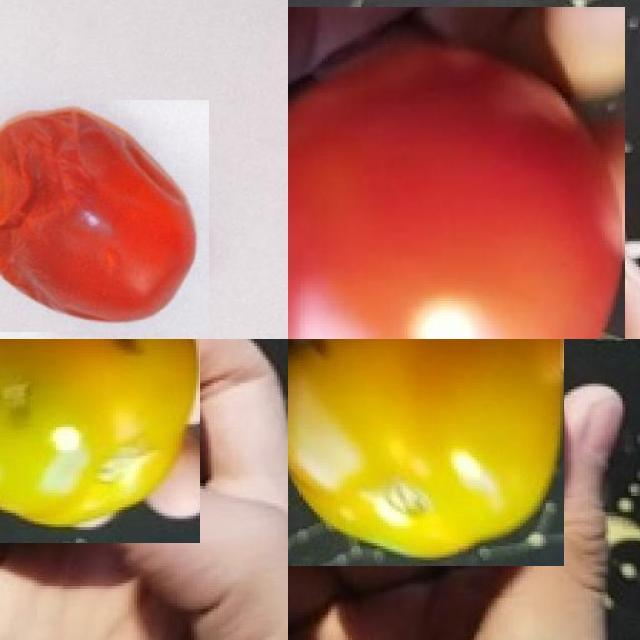Fresh Tomato: (288, 6, 624, 339)
Rotten Tomato: (288, 339, 563, 566), (0, 98, 208, 332), (0, 339, 199, 542)
